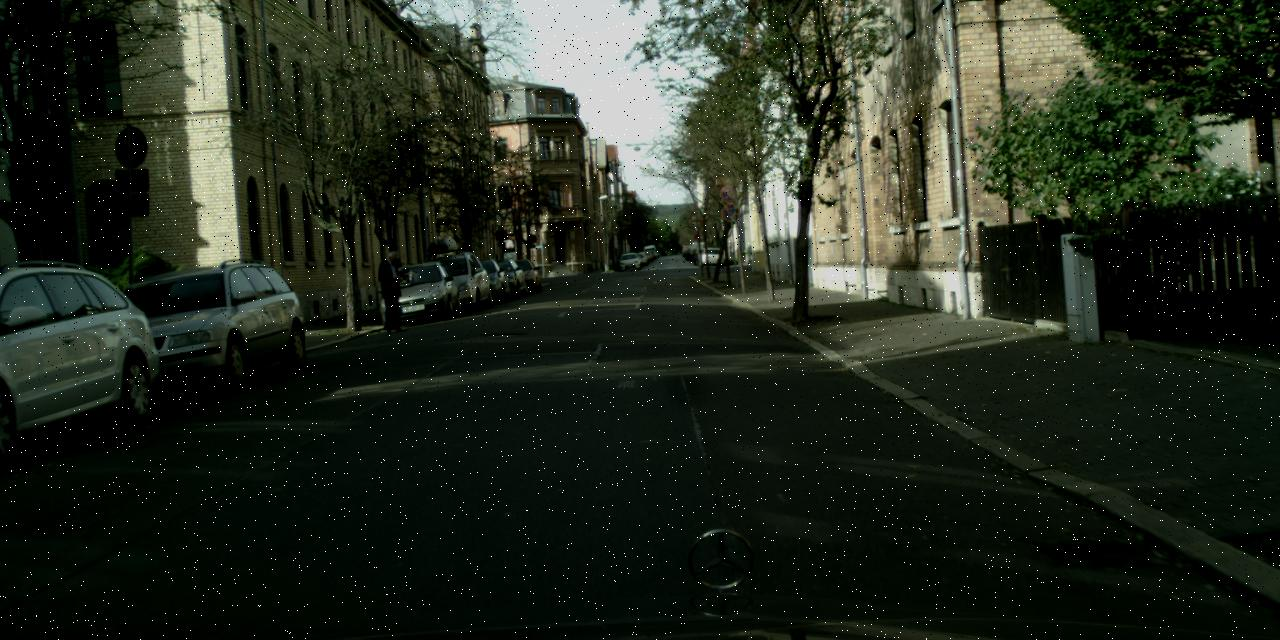ped: (378, 250, 410, 331)
